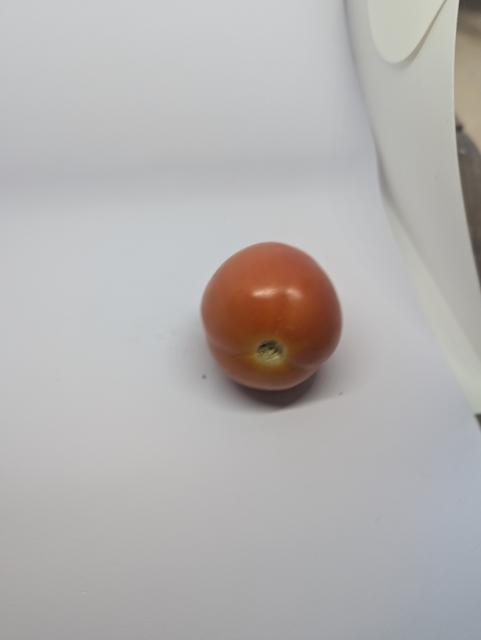red: (197, 228, 347, 414)
